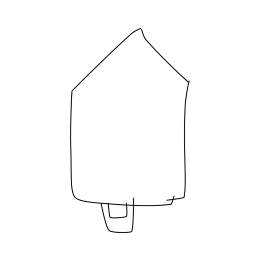single_line_roof: (64, 26, 196, 98)
wall: (65, 86, 195, 208)
